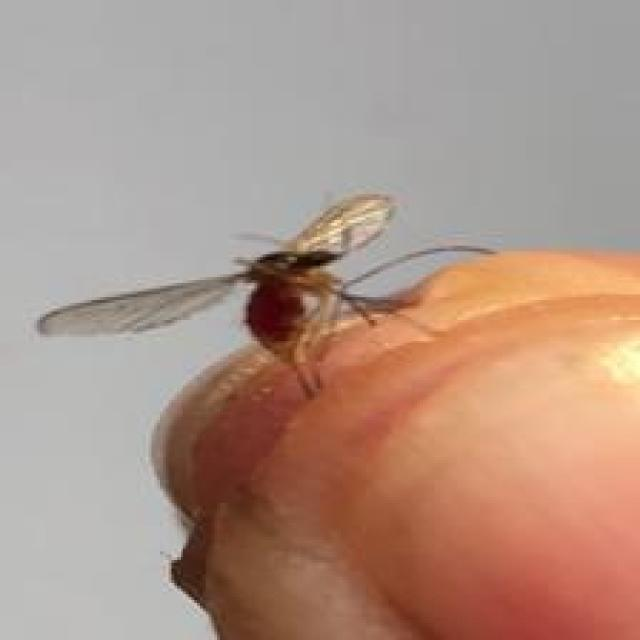Culex: (36, 190, 498, 401)
